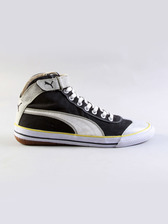shoes: (10, 72, 156, 156)
